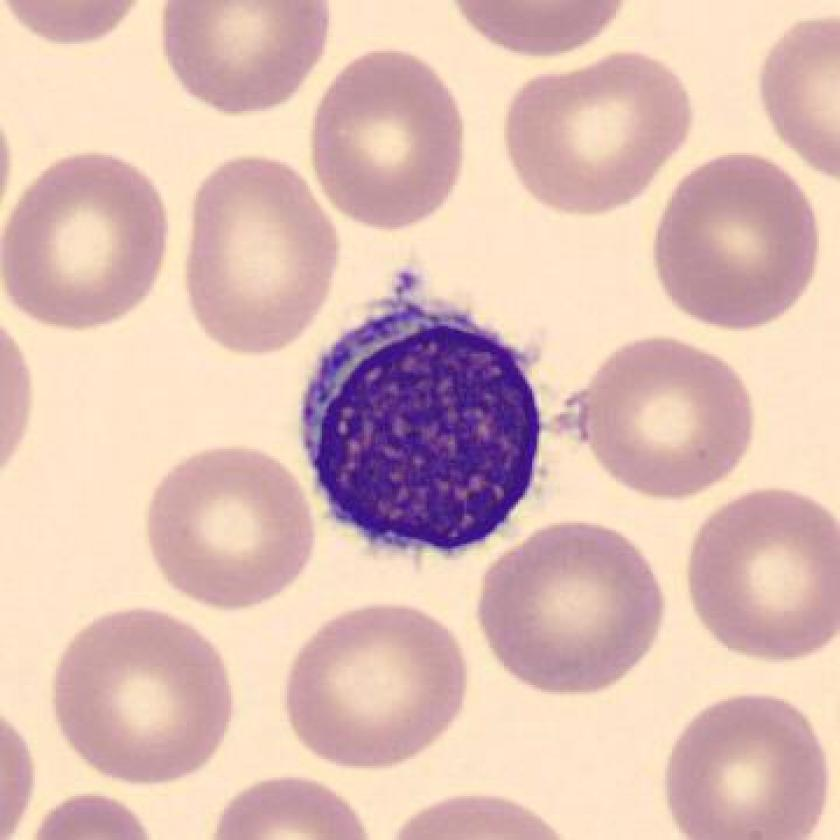lymphocyte: (286, 272, 563, 575)
